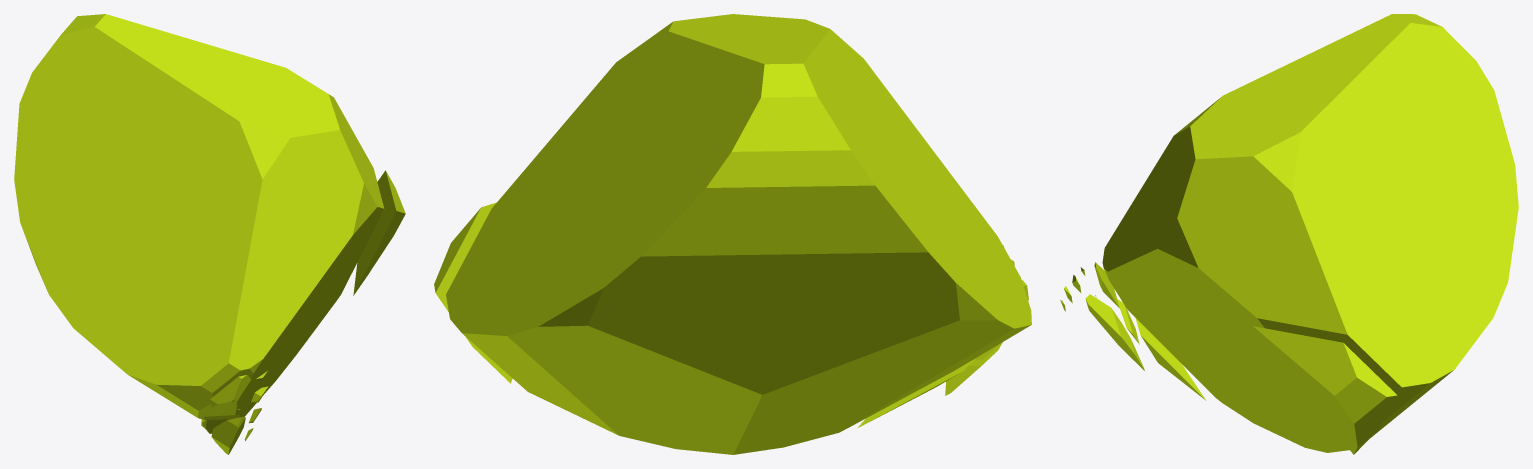
Rendered from gem_460380.gltf.
3 views of the same model, side by side, from view 1: azimuth 30°, elevation 25°; view 2: azimuth 150°, elevation 25°; view 3: azimuth 270°, elevation 25° (orthographic). The views are drawn at different scales.
Bounding box in the file's own units: 1.86 × 1.69 × 1.9.
